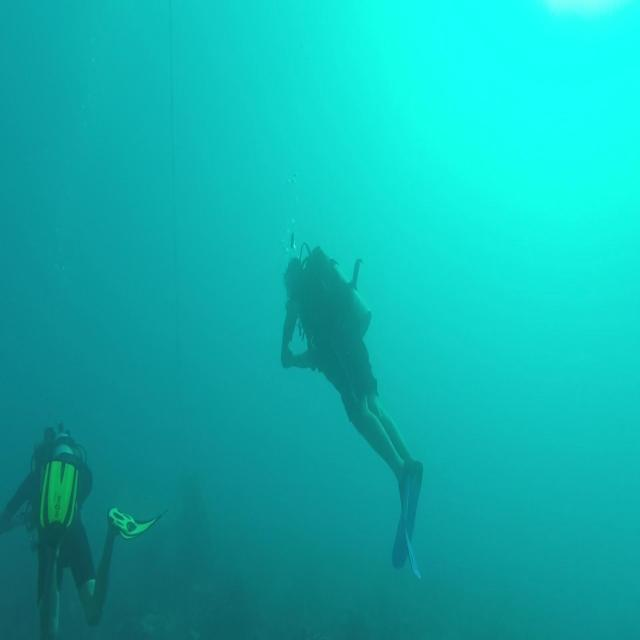human: (280, 242, 424, 575), (0, 420, 166, 638)
